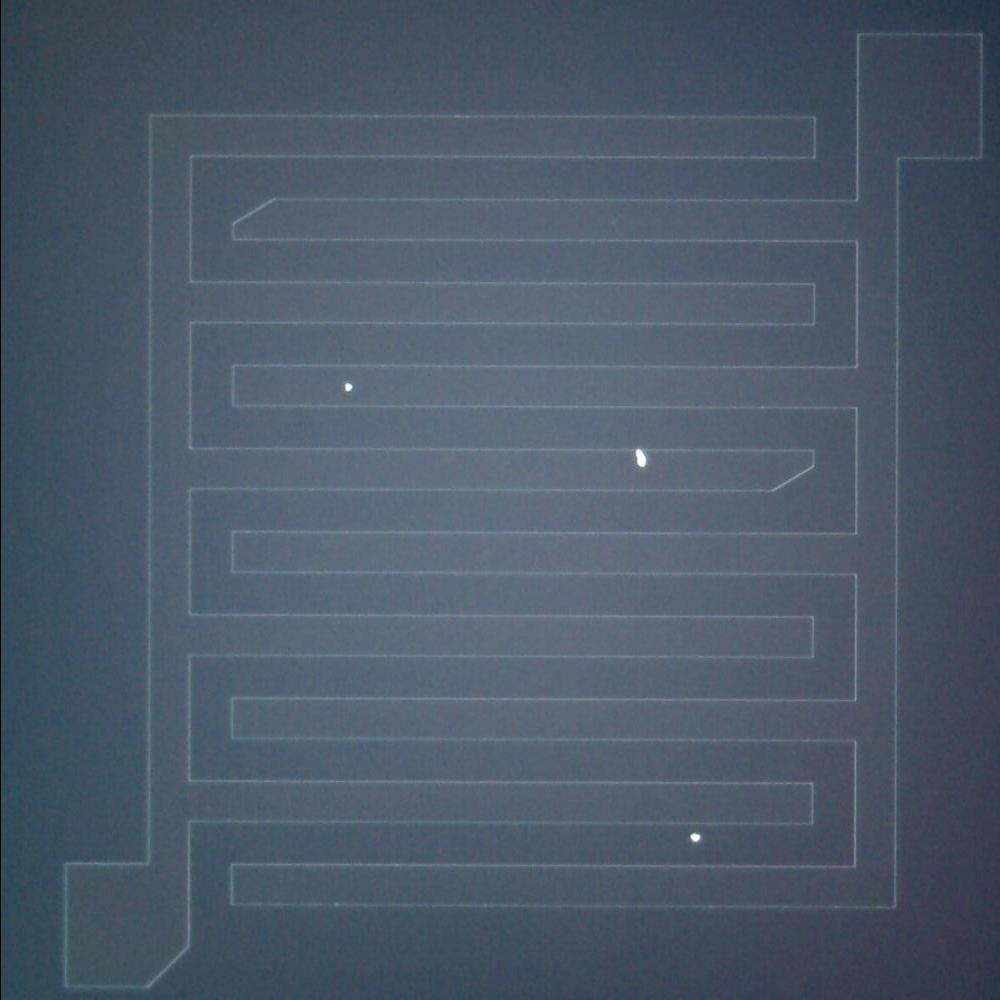edge circuit: (136, 929, 200, 996), (218, 190, 288, 248), (762, 438, 822, 501)
spot: (630, 444, 651, 476), (683, 822, 708, 848), (337, 377, 360, 399)
